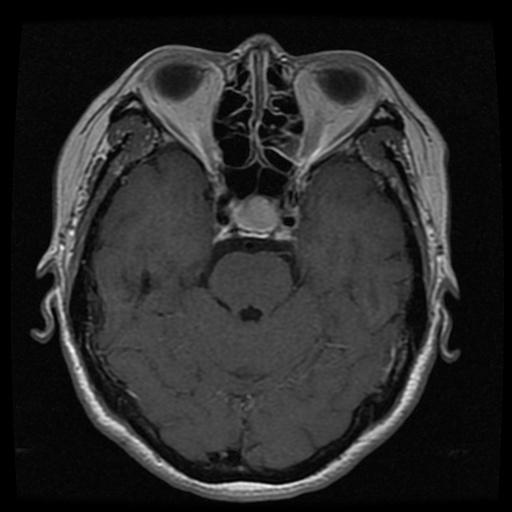pituitary: (232, 196, 279, 231)
